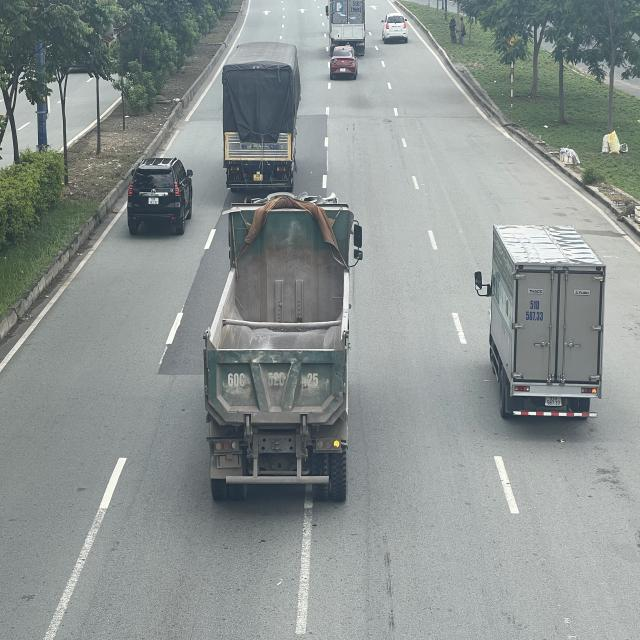car: (128, 155, 195, 234), (328, 44, 358, 80), (381, 10, 409, 46)
truck: (204, 194, 363, 497), (475, 223, 607, 420), (221, 41, 300, 190)
